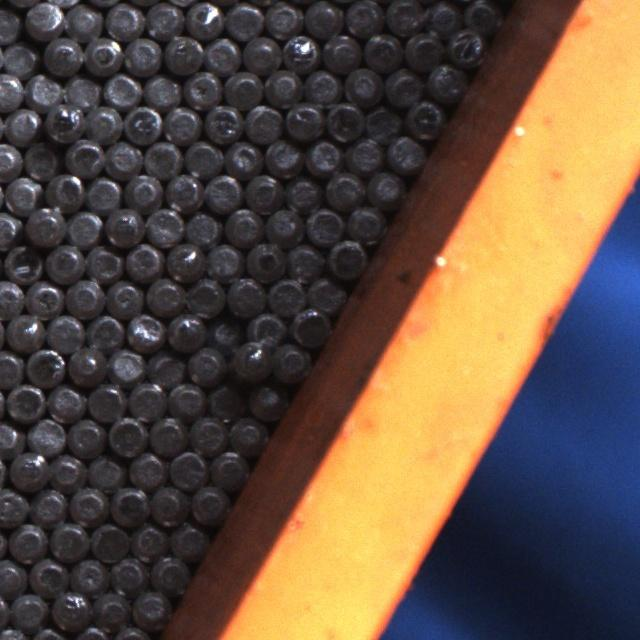tool: (426, 61, 467, 102), (244, 238, 285, 279), (403, 99, 444, 140), (228, 341, 269, 382), (148, 484, 188, 525), (25, 345, 66, 385), (5, 310, 45, 351), (184, 275, 224, 316), (108, 484, 148, 525), (87, 379, 127, 420), (68, 484, 108, 524), (44, 242, 84, 282), (304, 205, 344, 245), (48, 589, 88, 629), (167, 447, 207, 487), (202, 102, 242, 142), (403, 27, 443, 67), (144, 206, 184, 246), (7, 522, 47, 562), (186, 344, 226, 384), (64, 275, 104, 315), (27, 556, 67, 596), (224, 274, 264, 314), (142, 138, 182, 178), (326, 238, 366, 278), (383, 66, 423, 106), (243, 170, 283, 210), (8, 448, 48, 488), (362, 30, 402, 70), (88, 520, 128, 560), (265, 274, 305, 314), (346, 203, 386, 243), (446, 26, 486, 66), (149, 552, 189, 592), (208, 447, 248, 487), (66, 343, 105, 384), (322, 31, 362, 70), (48, 519, 87, 559), (244, 102, 283, 142), (164, 33, 203, 73), (103, 206, 143, 245), (127, 448, 166, 488), (123, 34, 162, 74), (148, 414, 187, 454), (91, 586, 130, 626), (107, 415, 146, 455), (264, 136, 303, 176), (9, 590, 48, 630), (166, 311, 206, 350), (242, 33, 282, 72), (126, 380, 165, 420), (23, 277, 63, 316), (65, 136, 104, 176), (26, 415, 66, 454), (128, 521, 168, 560), (184, 138, 223, 178), (169, 520, 209, 559), (189, 483, 228, 523), (324, 101, 363, 141), (41, 103, 81, 142), (125, 241, 164, 280), (324, 169, 363, 208), (24, 206, 63, 245), (304, 136, 343, 175), (64, 208, 103, 247), (66, 416, 105, 455), (103, 0, 142, 39), (343, 64, 382, 103), (5, 382, 44, 421), (262, 66, 301, 105), (188, 413, 227, 452), (183, 69, 222, 108), (167, 378, 206, 417), (45, 171, 84, 210), (284, 100, 323, 139), (1, 244, 40, 283), (144, 274, 183, 313), (224, 0, 263, 39), (246, 310, 285, 349), (205, 382, 244, 421), (246, 381, 285, 420), (270, 342, 309, 381), (203, 34, 241, 74), (102, 70, 142, 108), (345, 134, 385, 172), (223, 205, 261, 245), (42, 36, 82, 74), (124, 102, 162, 142), (164, 170, 202, 210), (83, 35, 121, 75), (166, 238, 204, 278), (386, 134, 426, 172), (305, 274, 345, 312), (303, 68, 342, 106), (28, 486, 66, 525), (204, 171, 242, 210), (123, 170, 162, 208), (282, 31, 320, 70), (46, 313, 85, 351), (183, 208, 221, 247), (103, 138, 141, 177), (47, 382, 85, 421), (143, 71, 182, 109), (84, 242, 122, 281), (47, 449, 85, 488), (184, 0, 223, 38), (61, 72, 100, 110), (223, 68, 261, 107), (64, 1, 102, 40), (70, 554, 109, 592), (205, 313, 243, 352), (285, 241, 323, 280), (227, 414, 266, 452), (83, 104, 122, 142), (264, 202, 302, 241), (131, 587, 169, 626), (205, 240, 242, 280), (3, 105, 41, 143), (126, 311, 164, 349), (22, 142, 60, 180), (2, 174, 40, 212), (86, 312, 124, 350), (284, 172, 322, 210), (104, 278, 142, 316), (224, 138, 262, 176), (163, 105, 201, 143), (86, 452, 124, 490), (146, 349, 184, 387), (110, 554, 148, 592), (365, 166, 403, 204), (364, 103, 402, 141), (287, 308, 325, 346), (24, 0, 63, 37), (143, 0, 182, 37), (107, 344, 144, 382), (1, 39, 38, 77), (263, 0, 301, 37), (303, 0, 342, 36), (343, 0, 383, 35), (85, 175, 122, 212), (26, 71, 62, 108), (384, 0, 424, 32), (424, 0, 462, 33), (465, 0, 504, 31), (0, 486, 26, 526), (0, 556, 25, 596), (0, 348, 24, 387), (0, 70, 24, 108), (0, 139, 22, 178), (0, 418, 22, 456), (0, 278, 22, 316), (0, 5, 20, 43), (0, 210, 20, 248)
